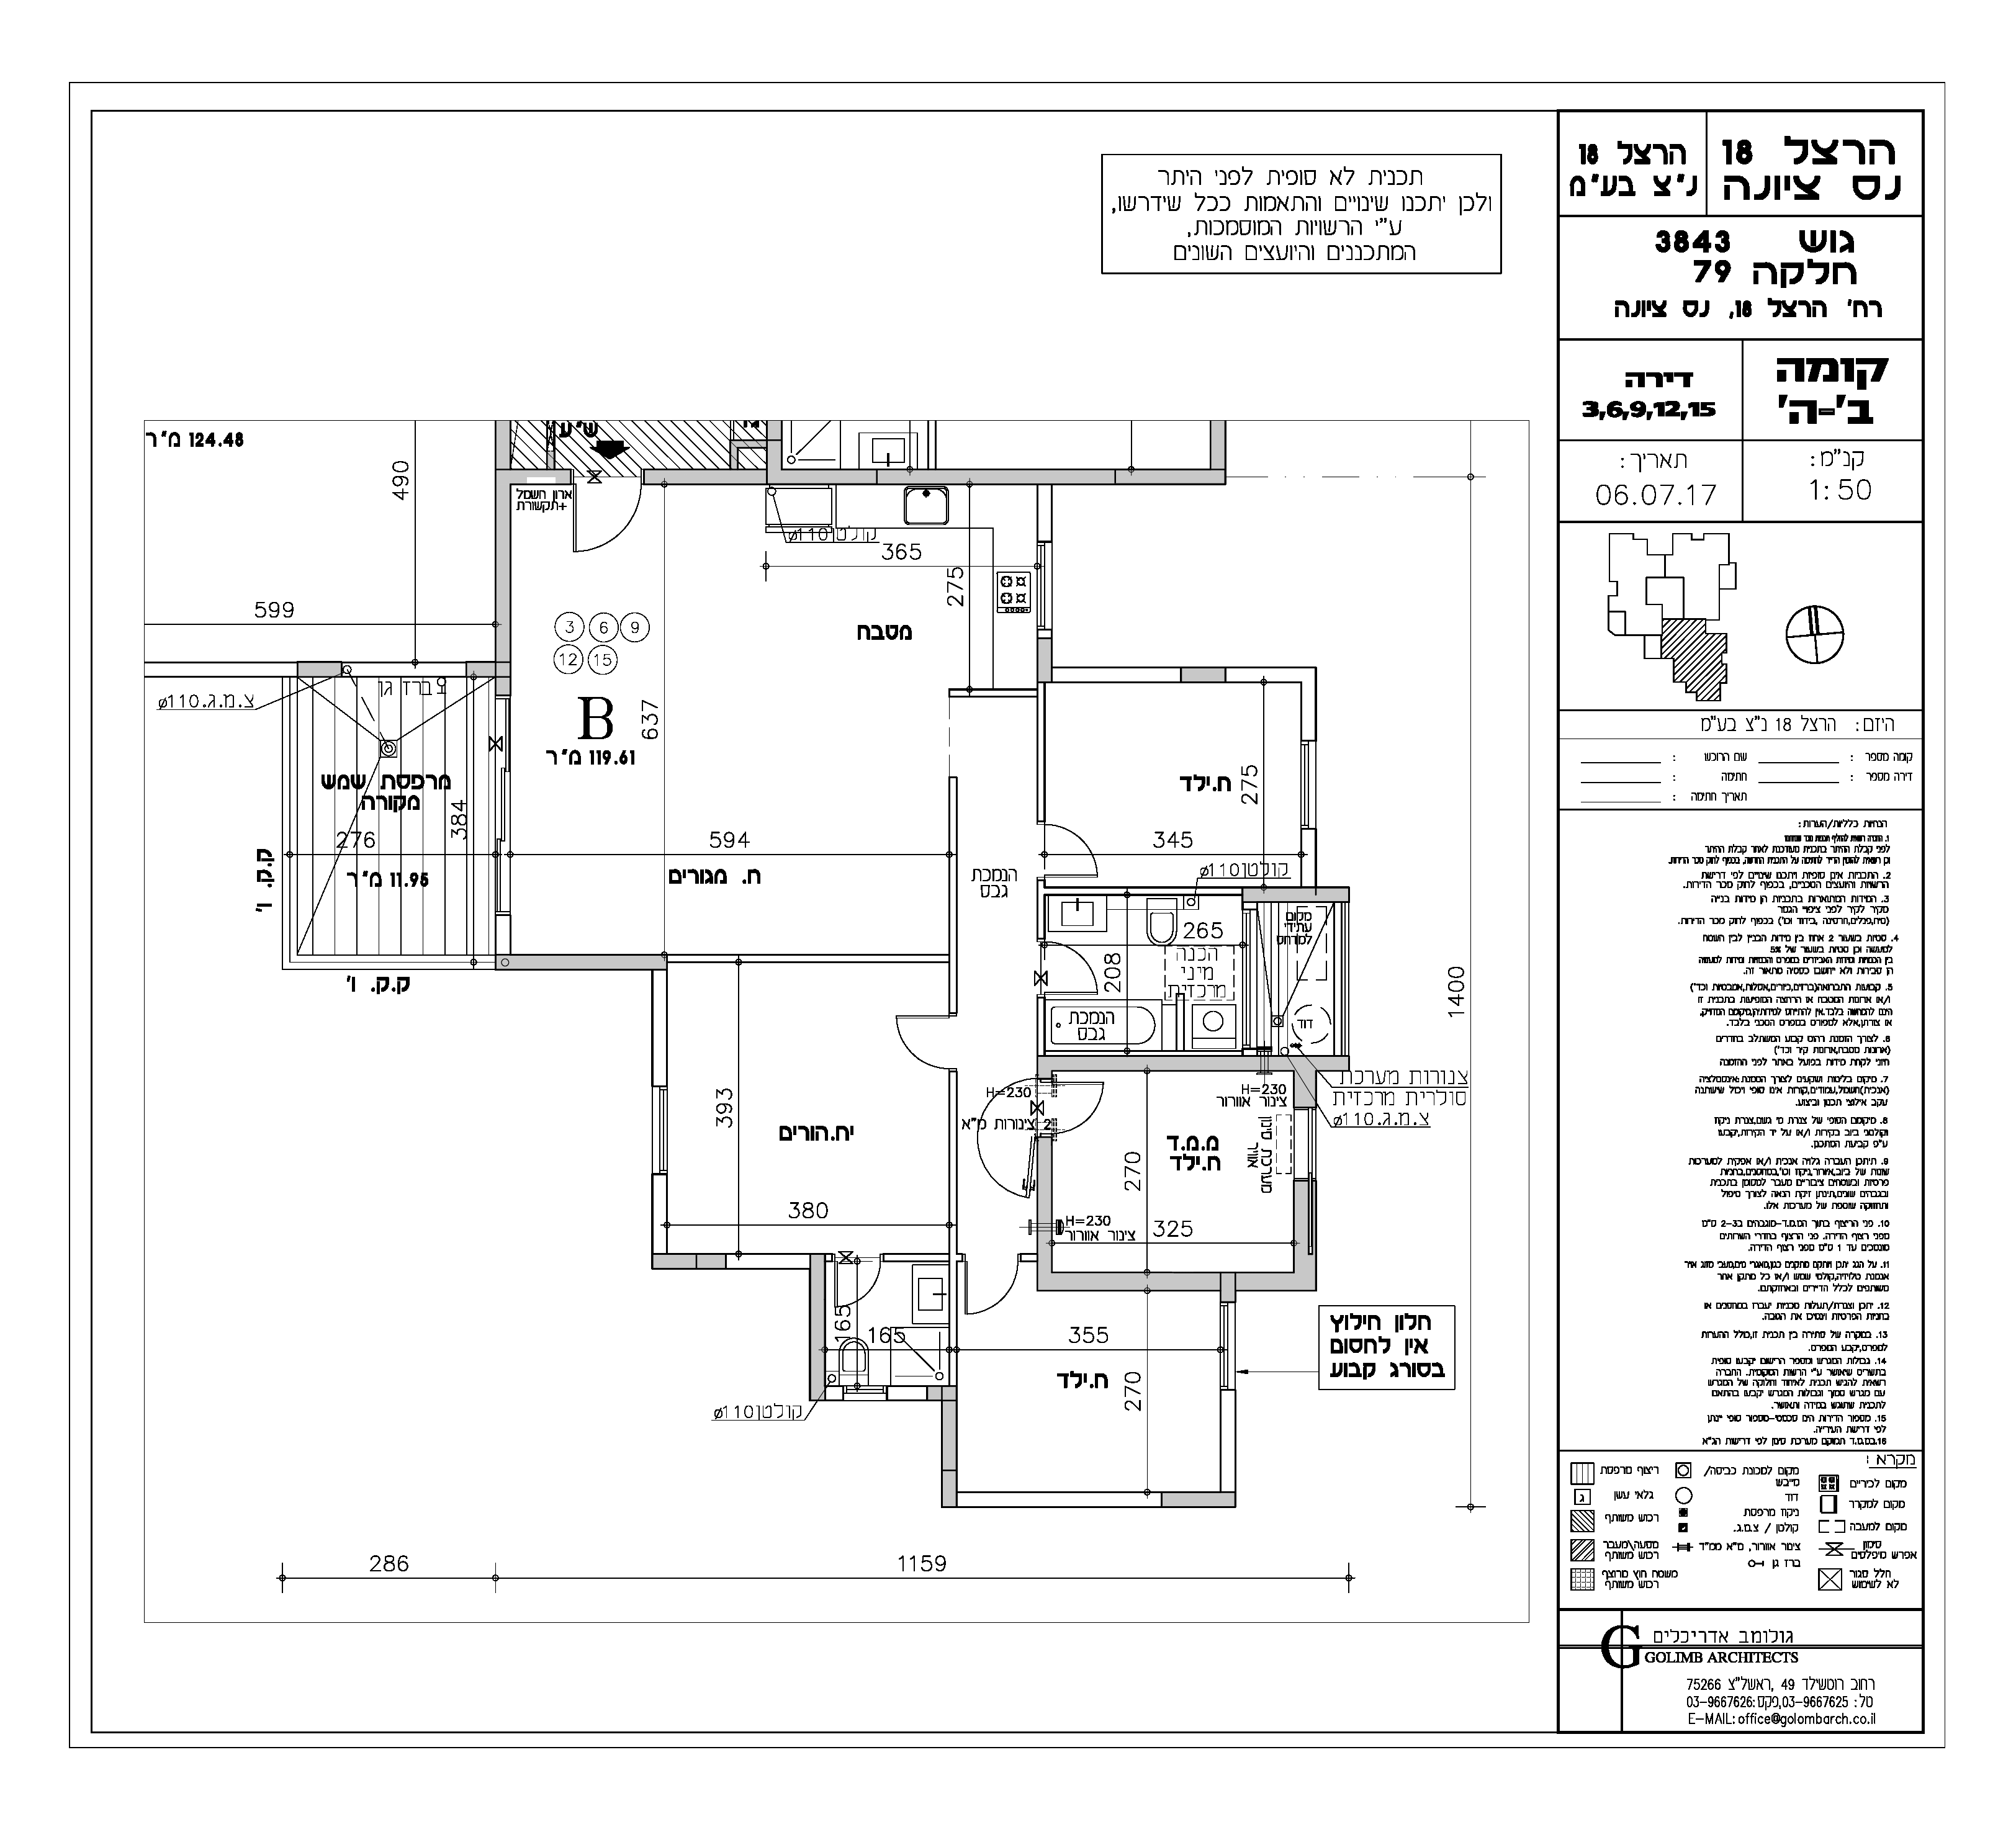door: (569, 490, 646, 564), (882, 1001, 945, 1078), (959, 1263, 1027, 1324), (1061, 1078, 1129, 1138), (1040, 1272, 1222, 1289)
wall: (878, 471, 1228, 483), (1036, 1056, 1259, 1073), (495, 471, 511, 662), (493, 954, 669, 968), (1212, 422, 1228, 485)
window: (659, 1085, 667, 1173), (1036, 545, 1043, 627), (1301, 743, 1308, 826)
